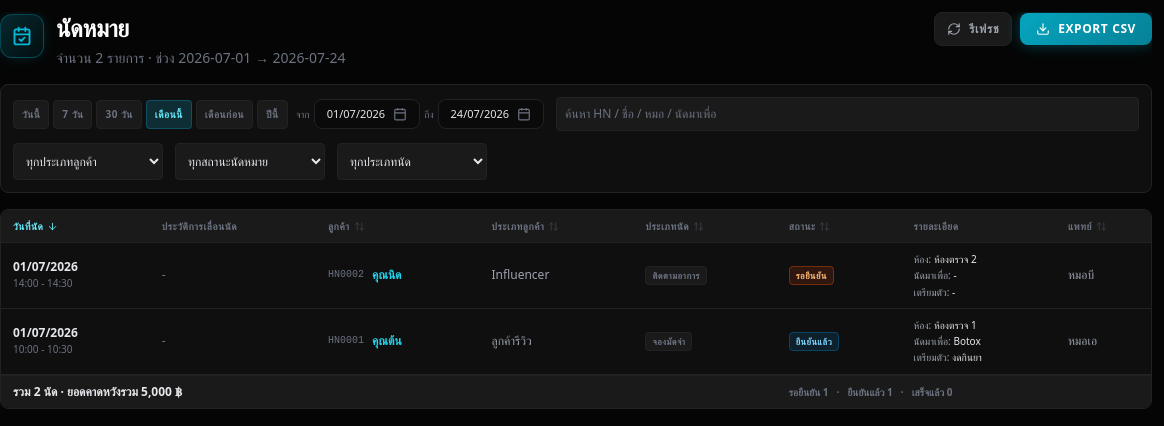
Test: AppointmentReportTab — render + interactions › type filter narrows to follow-up only
expect the row with test id "appt-row-A1" is shown: met, box [1, 308, 1152, 375]
Select "ติดตามอาการ" in the dropdown with test id "appt-filter-type" at (412, 162), box [337, 143, 487, 180]
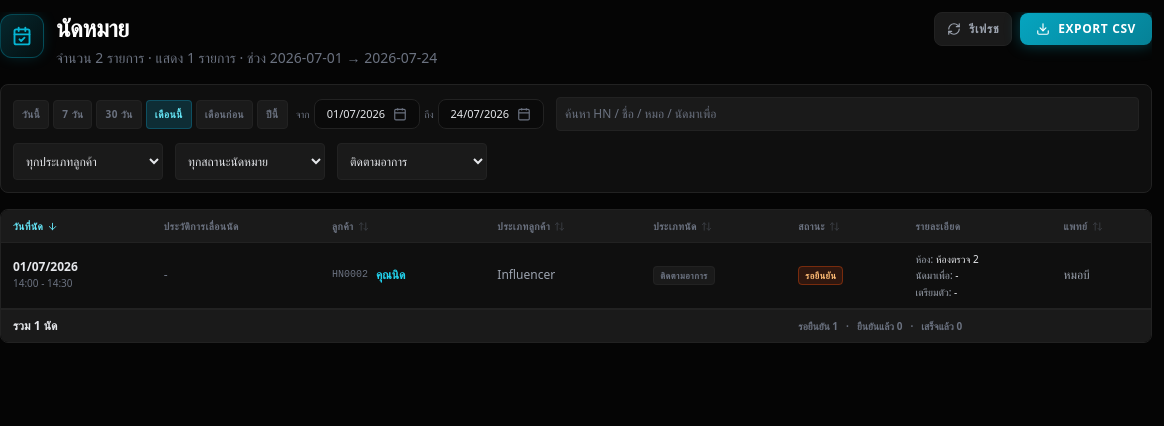
expect the row with test id "appt-row-A2" is shown: met, box [1, 242, 1152, 309]
expect the row with test id "appt-row-A1" is gone: met
